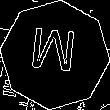M_S: (29, 27, 81, 83)
